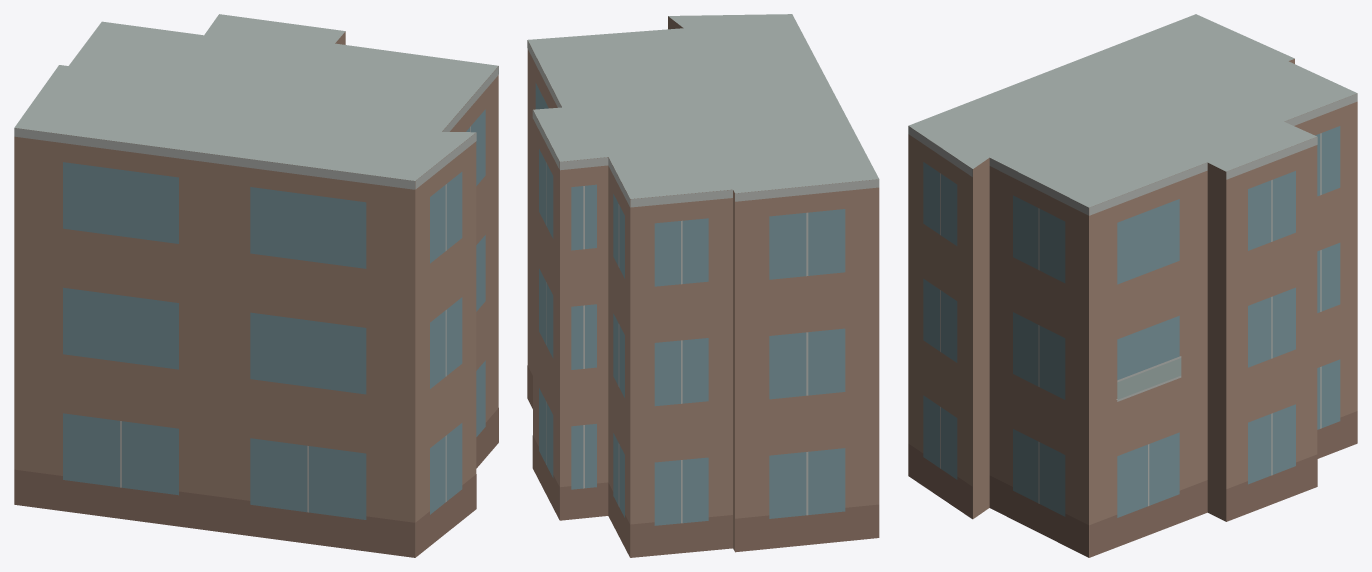
Rendered from survey-upis-32495810.glb.
3 renders of one model, left to right at view 1: azimuth 30°, elevation 25°; view 2: azimuth 150°, elevation 25°; view 3: azimuth 270°, elevation 25°, orthographic. The views are drawn at different scales.
Visible parts, largest first — view 1: survey-upis-32495810.tmp; view 2: survey-upis-32495810.tmp; view 3: survey-upis-32495810.tmp.
Part boxes in pixels (left/top/right/bottom): survey-upis-32495810.tmp: left=14, top=14, right=498, bottom=557; survey-upis-32495810.tmp: left=527, top=14, right=879, bottom=557; survey-upis-32495810.tmp: left=908, top=14, right=1357, bottom=557.
Bounding box in the file's own units: 12.34 × 10.4 × 12.1.
